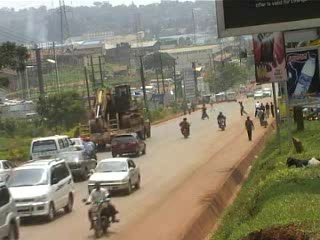Car: (6, 155, 74, 223), (85, 155, 141, 201), (55, 148, 97, 183), (0, 177, 22, 239), (108, 131, 147, 158), (0, 158, 19, 183), (68, 133, 91, 151), (251, 90, 264, 101), (246, 90, 253, 100)
Motorcycle: (82, 183, 120, 236), (80, 135, 99, 161), (175, 114, 193, 139), (215, 111, 229, 132)
